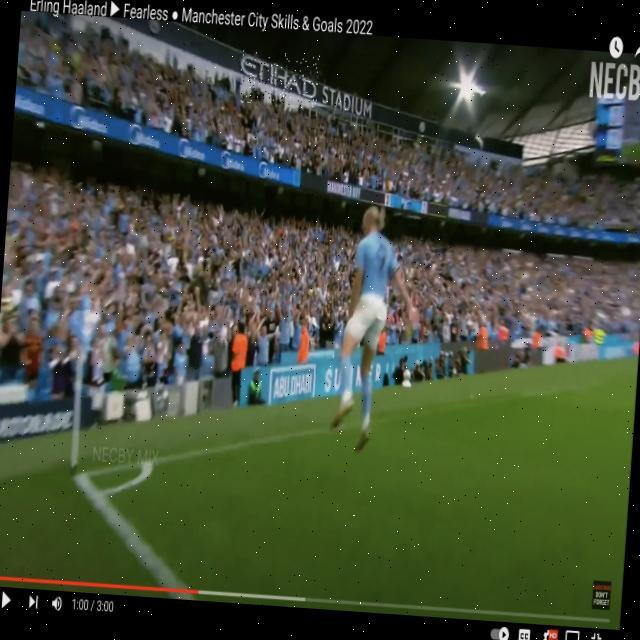Etihad Airways: (238, 50, 319, 107)
